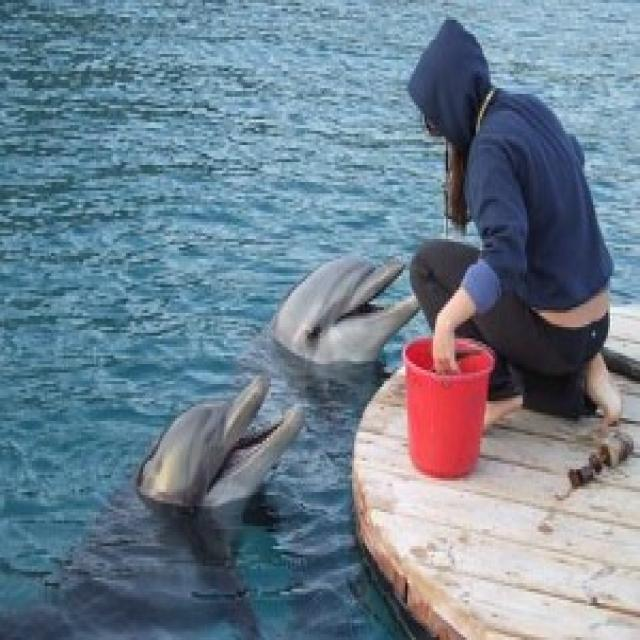Dolphin: (81, 382, 308, 612), (254, 252, 413, 376)
